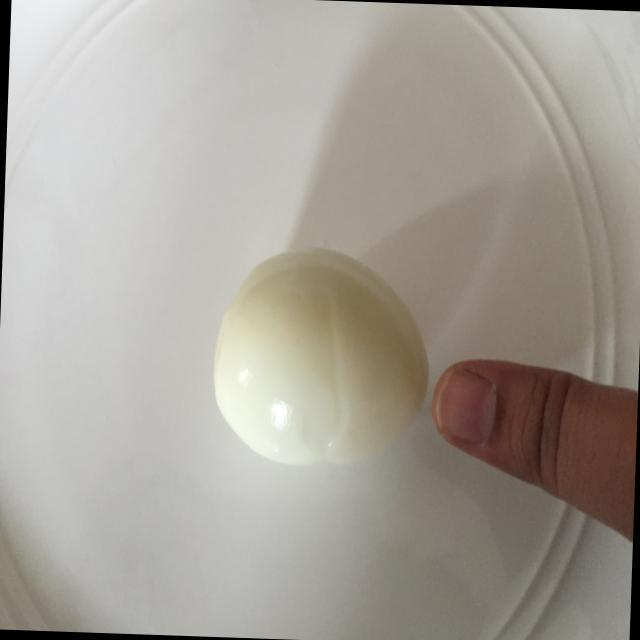Egg: (202, 238, 434, 486)
Finger: (424, 347, 582, 500)
